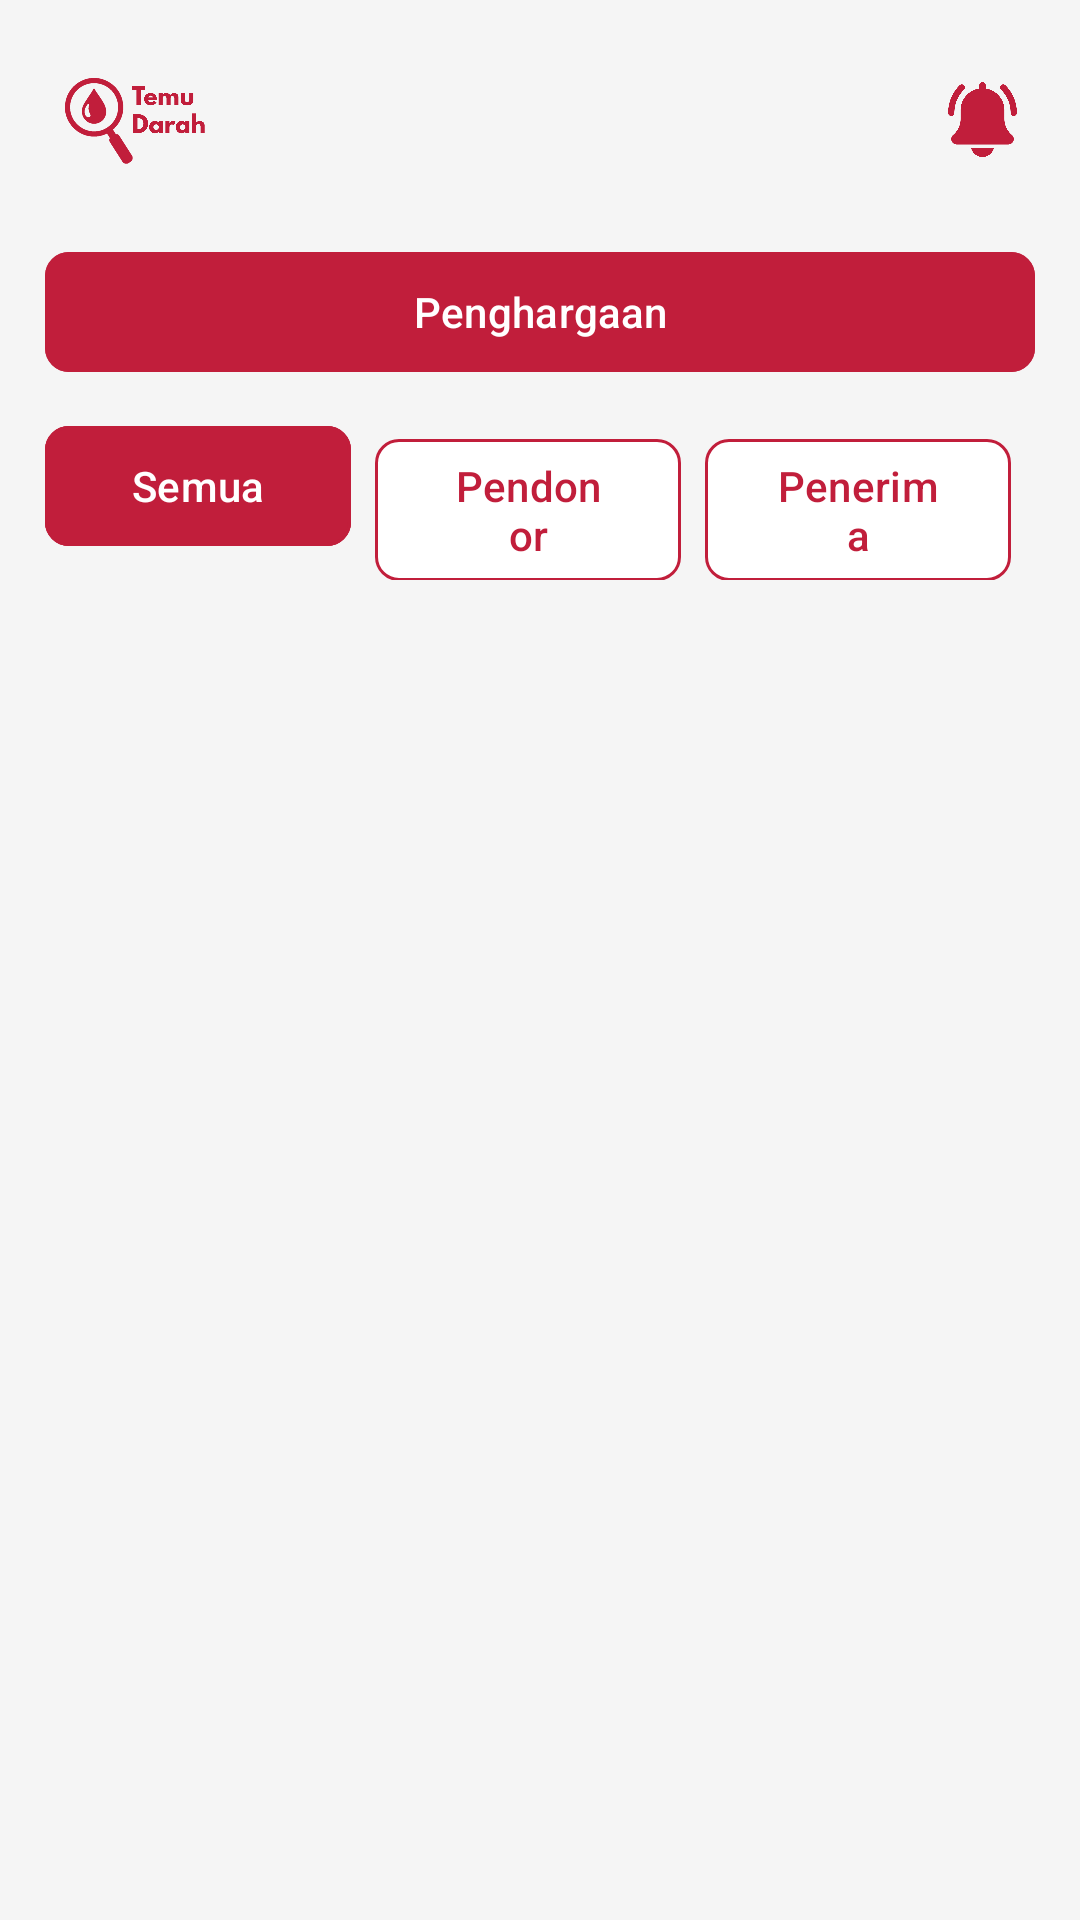

Icon bounding boxes for this 1080 × 1920 phone screenshot, format {"left": x1, "top": y1, "right": x2, "bottom": y2}:
Notification: {"left": 948, "top": 82, "right": 1017, "bottom": 157}
